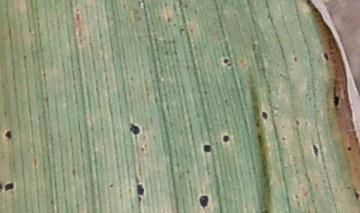tarspot: (125, 119, 143, 138), (197, 192, 211, 211), (330, 86, 341, 110), (200, 141, 214, 156), (2, 127, 15, 143), (134, 183, 147, 198), (4, 177, 15, 194), (218, 133, 233, 145), (311, 141, 321, 159), (259, 109, 271, 122), (219, 56, 233, 65), (322, 50, 330, 64), (345, 143, 355, 154)
